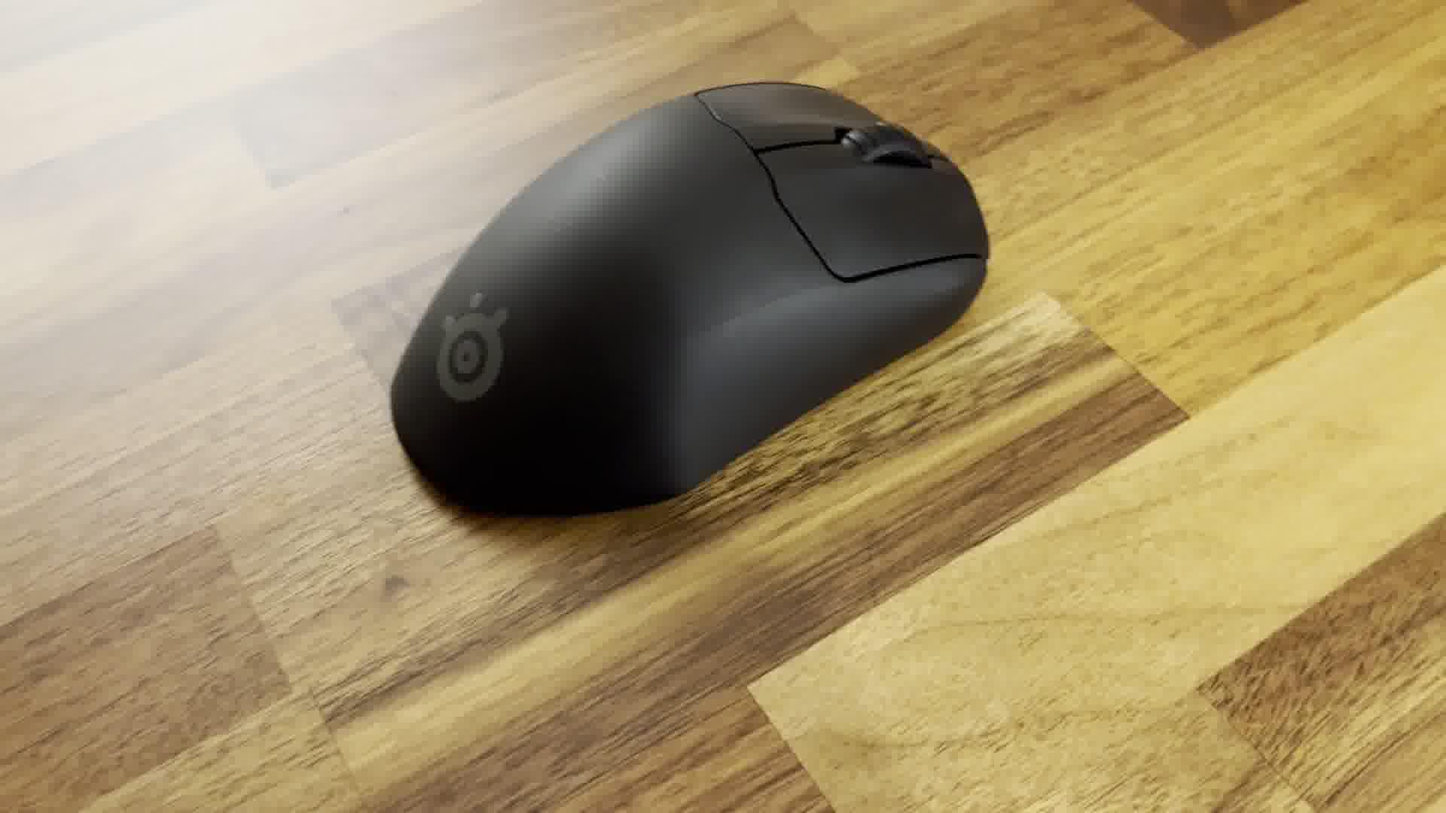steel-series: (386, 72, 993, 528)
